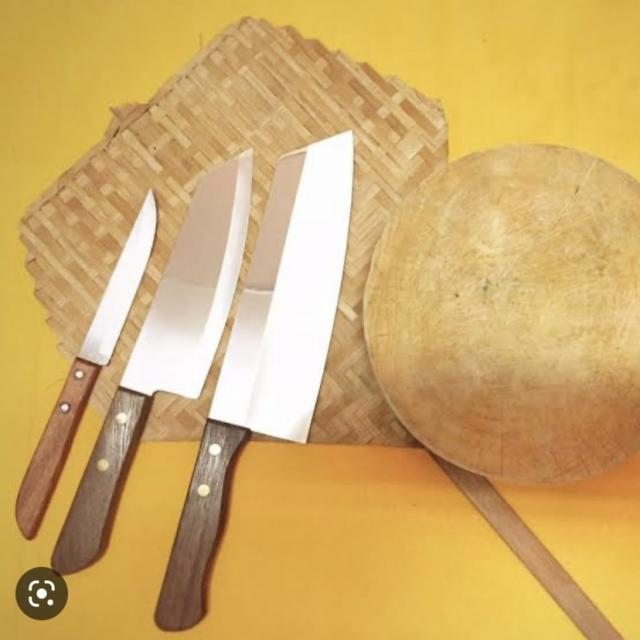Knife: (11, 111, 367, 634)
